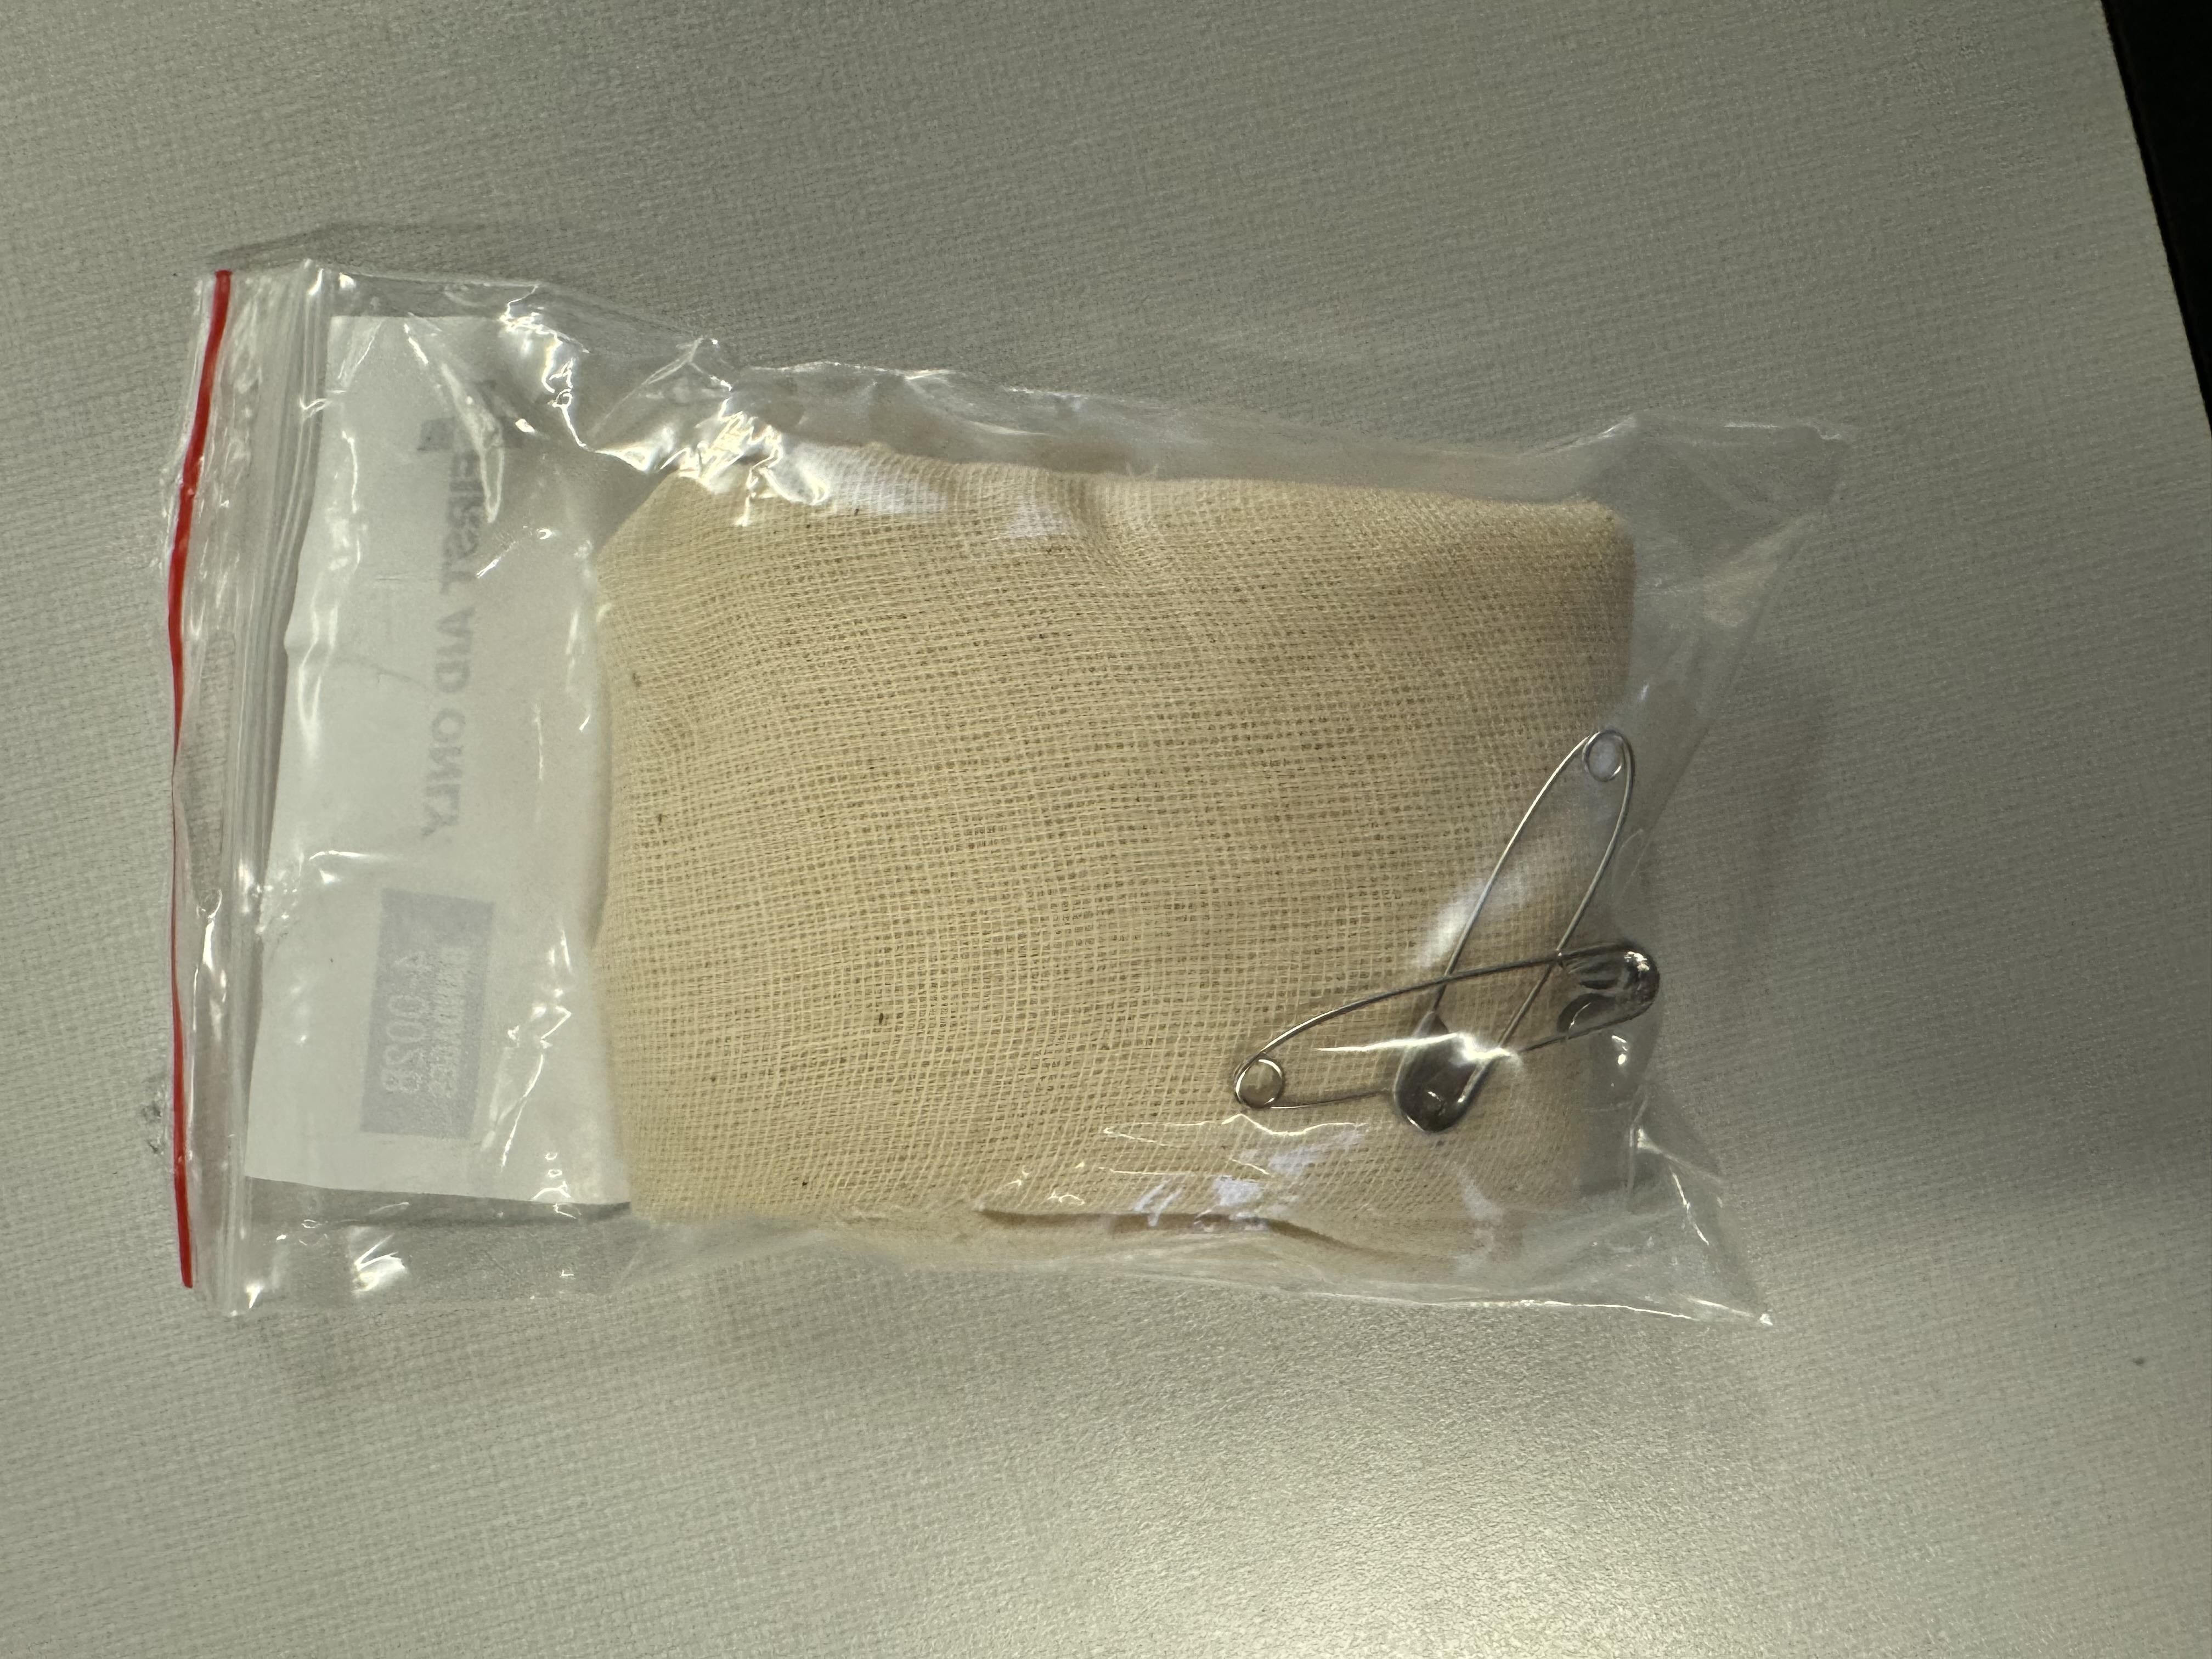gauze: (341, 209, 2102, 1518)
